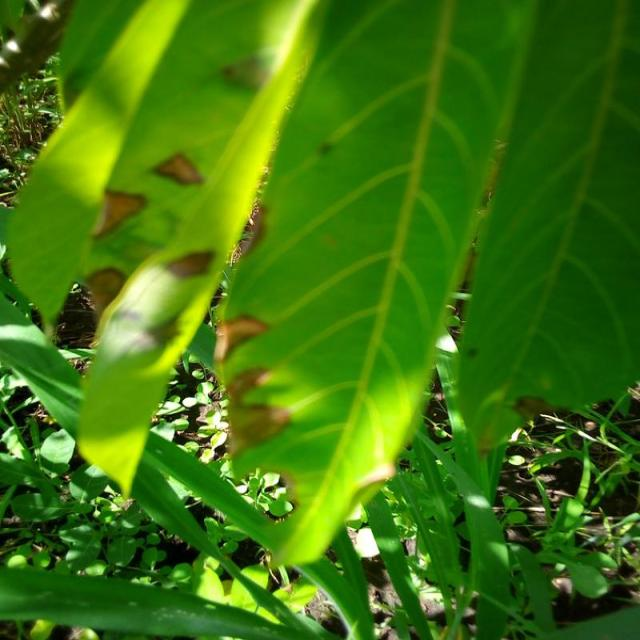cassava leaf: (2, 0, 638, 574)
